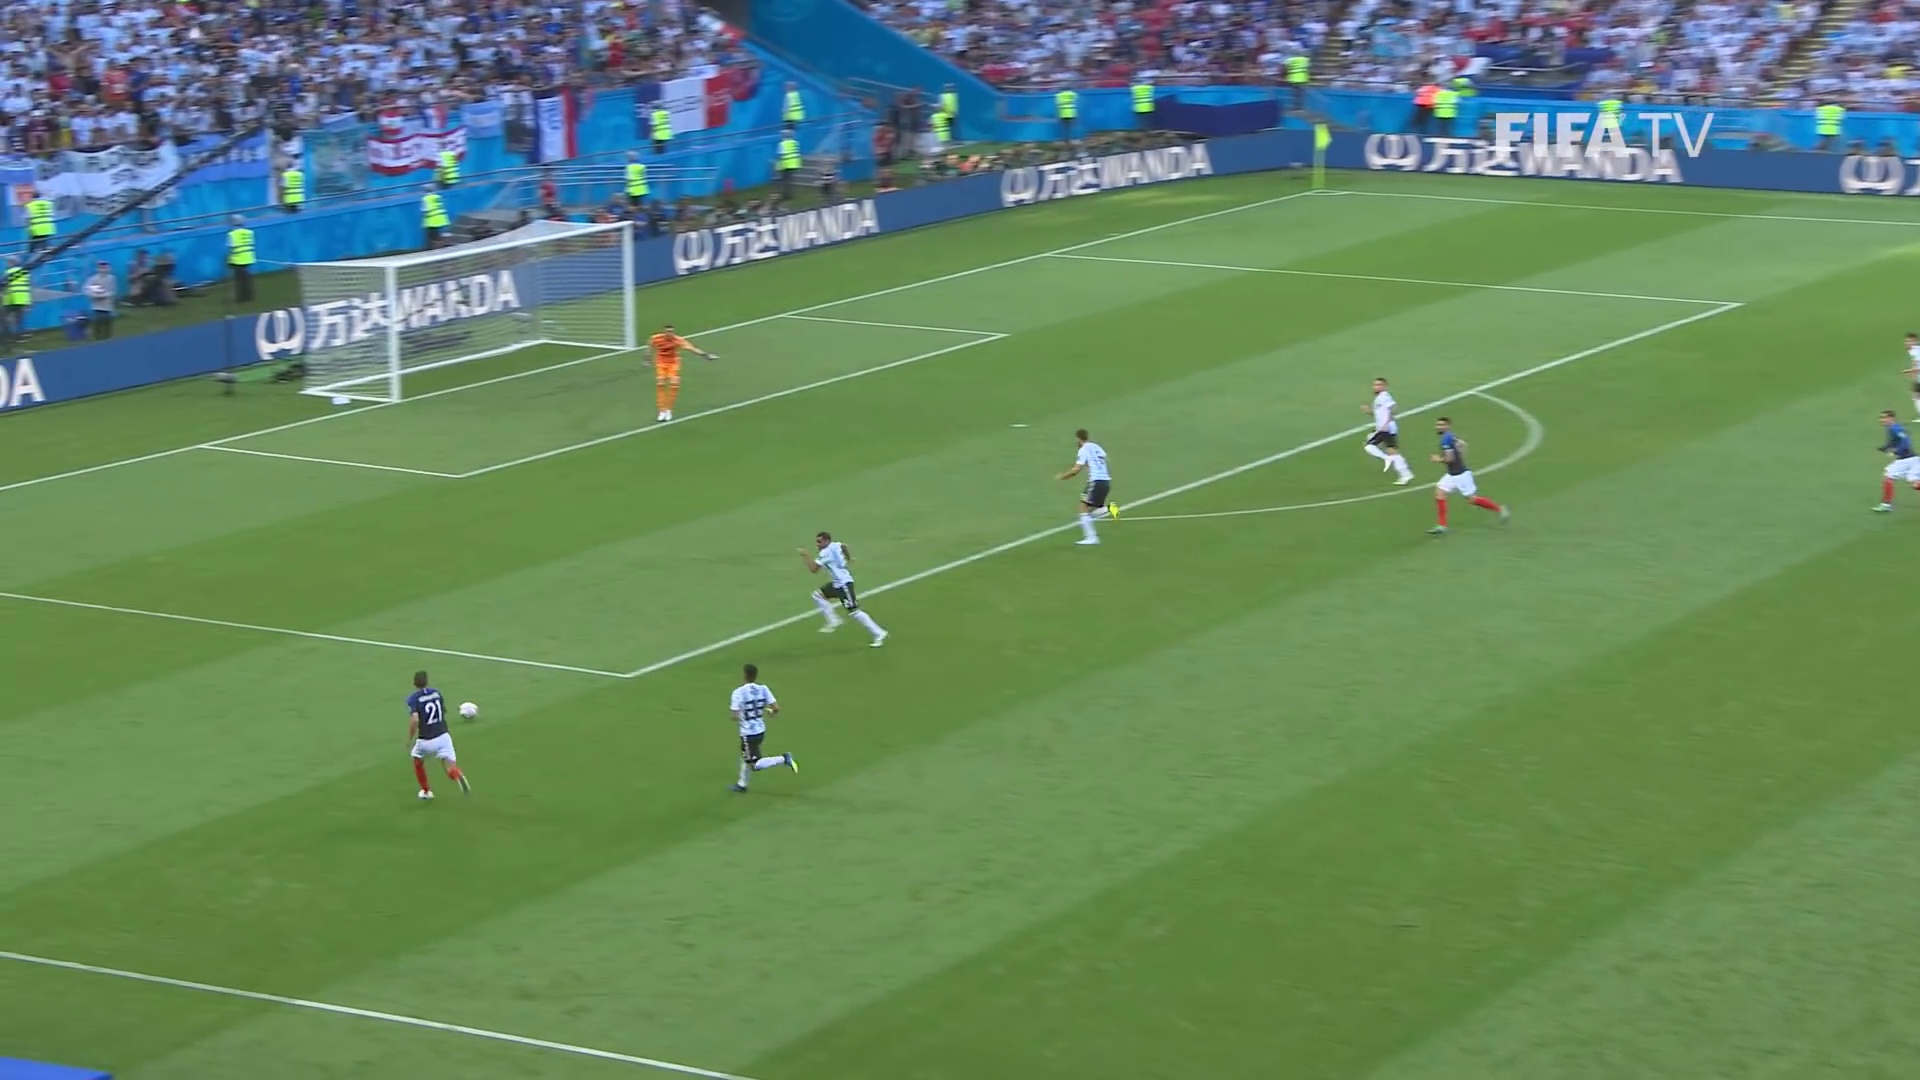ball: (461, 701, 476, 719)
person: (803, 529, 888, 648), (726, 658, 797, 791), (1435, 413, 1509, 531), (408, 669, 469, 797), (1059, 428, 1117, 546), (646, 326, 717, 419), (1363, 376, 1411, 487), (1874, 410, 1920, 509)
